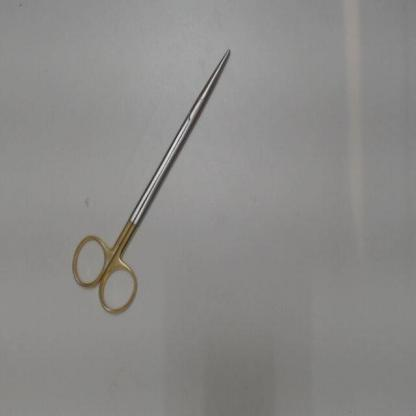7 Metzenbaum Scissors: (67, 44, 235, 322)
